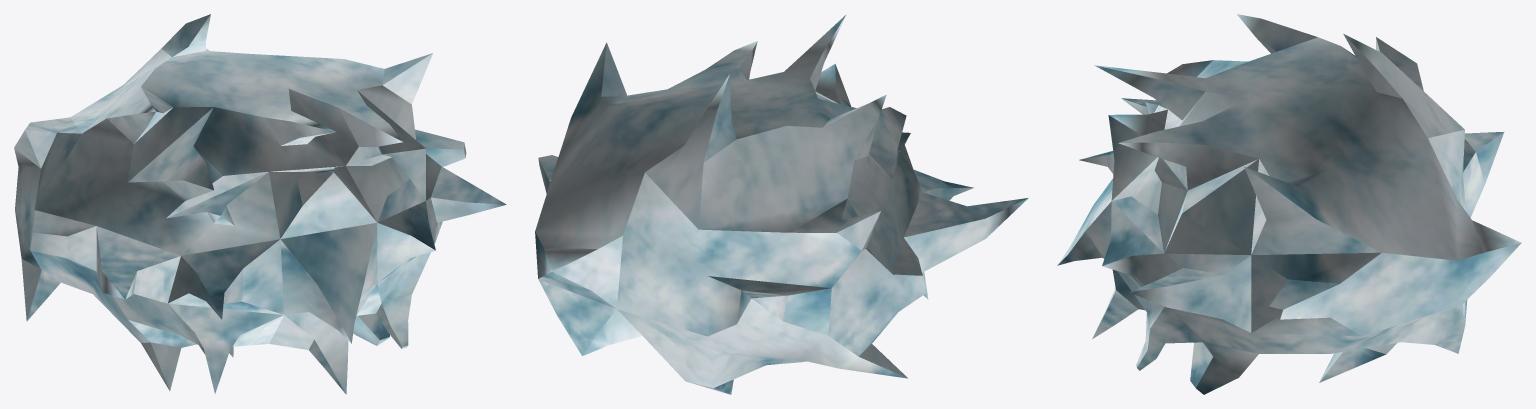
Rendered from iceman_fusion_rodeoprojectile.glb.
The picture shows the model from 3 angles, left to right: view 1: azimuth 30°, elevation 25°; view 2: azimuth 150°, elevation 25°; view 3: azimuth 270°, elevation 25°; orthographic projection. The views are drawn at different scales.
Visible parts, largest first — view 1: iceman_fusion_rodeoprojectile_0; view 2: iceman_fusion_rodeoprojectile_0; view 3: iceman_fusion_rodeoprojectile_0.
Boxes of the visible parts, left/top/right/bottom form: iceman_fusion_rodeoprojectile_0: left=14, top=14, right=506, bottom=394; iceman_fusion_rodeoprojectile_0: left=535, top=14, right=1028, bottom=394; iceman_fusion_rodeoprojectile_0: left=1057, top=14, right=1521, bottom=394.
Bounding box in the file's own units: 35.91 × 27.64 × 33.8.
1 material, 1 textured.
